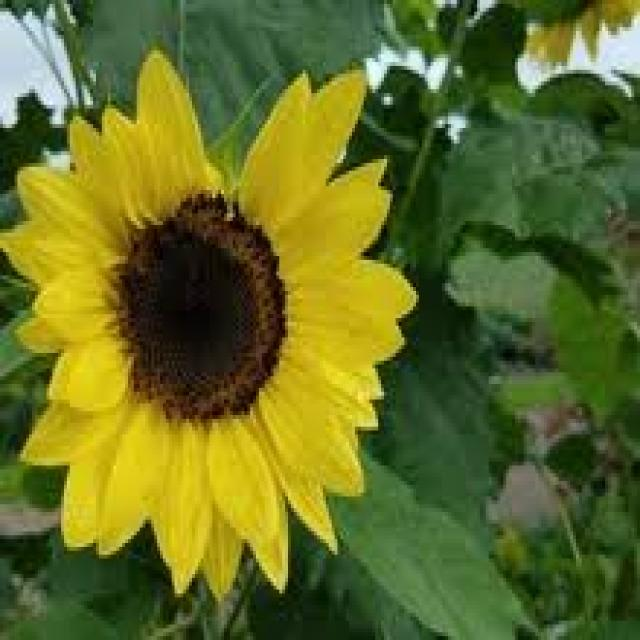sunflower: (4, 39, 427, 612)
